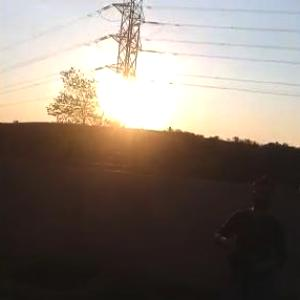follow: (208, 172, 294, 299)
